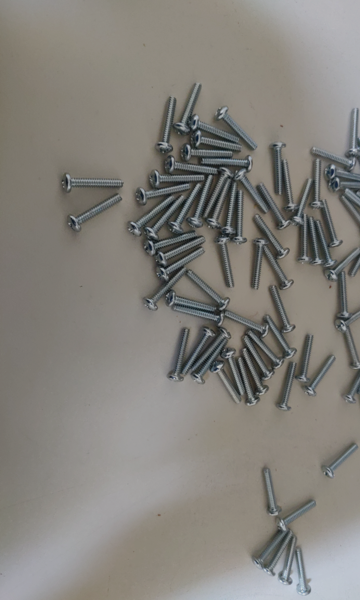longscrew: (68, 195, 123, 232), (173, 79, 207, 137), (143, 266, 188, 309), (186, 269, 231, 311), (180, 325, 215, 379), (144, 194, 184, 240), (190, 326, 229, 373), (236, 166, 271, 216), (129, 195, 174, 232), (219, 108, 259, 149), (156, 249, 207, 280), (199, 163, 229, 215), (199, 169, 229, 221), (155, 235, 205, 266), (252, 529, 292, 567), (171, 180, 200, 232), (200, 179, 229, 231), (254, 216, 289, 259), (262, 531, 294, 577), (146, 227, 199, 254), (249, 328, 283, 370), (305, 355, 339, 397), (155, 95, 179, 154), (167, 327, 192, 383), (264, 317, 298, 358), (196, 342, 228, 385), (245, 336, 274, 383), (241, 351, 269, 398), (289, 175, 314, 227), (259, 183, 286, 231), (323, 444, 360, 478), (265, 248, 293, 292), (277, 501, 318, 531), (327, 244, 360, 281), (234, 360, 259, 408), (275, 534, 297, 588), (212, 362, 240, 404), (169, 304, 226, 324), (221, 348, 245, 395), (224, 311, 269, 336), (189, 117, 240, 139), (294, 332, 316, 383), (272, 286, 295, 334), (277, 362, 299, 412), (321, 200, 343, 248), (214, 183, 236, 231), (161, 158, 222, 174), (144, 170, 205, 186), (132, 185, 193, 201), (62, 175, 123, 191), (262, 465, 280, 518), (293, 548, 312, 598), (305, 157, 323, 209), (191, 134, 243, 152), (249, 240, 268, 289), (231, 190, 246, 252), (316, 220, 336, 266), (343, 321, 360, 374), (217, 233, 232, 292), (271, 142, 287, 196), (165, 295, 217, 311), (309, 149, 358, 165), (345, 105, 360, 156), (340, 197, 360, 234), (336, 271, 351, 320), (309, 213, 322, 269), (280, 161, 294, 211), (336, 304, 360, 331), (345, 362, 360, 405), (298, 213, 310, 265), (200, 156, 252, 168), (178, 146, 234, 157), (349, 235, 360, 279), (345, 189, 360, 218), (324, 166, 360, 178), (330, 179, 360, 191), (355, 192, 360, 214), (359, 136, 360, 178)
